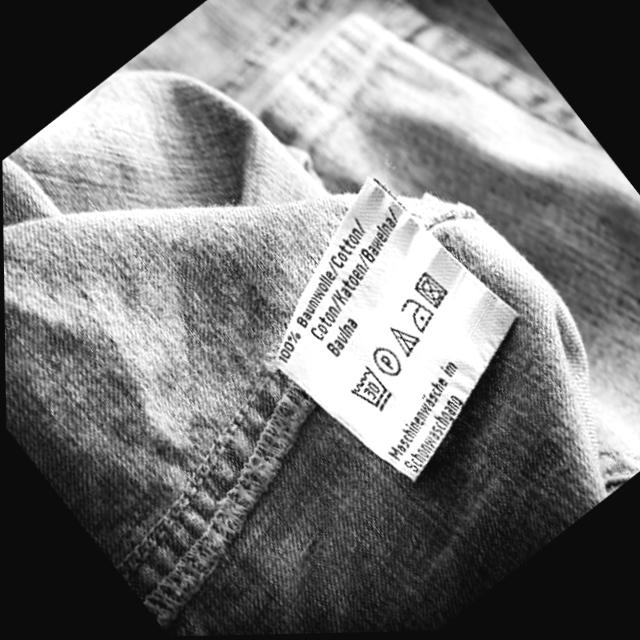30C: (353, 370, 394, 412)
DN_bleach: (389, 327, 421, 358)
DN_tumble_dry: (413, 272, 449, 308)
dry_clean_any_solvent_except_trichloroethylene: (373, 347, 402, 378)
iron_low: (401, 298, 435, 334)
